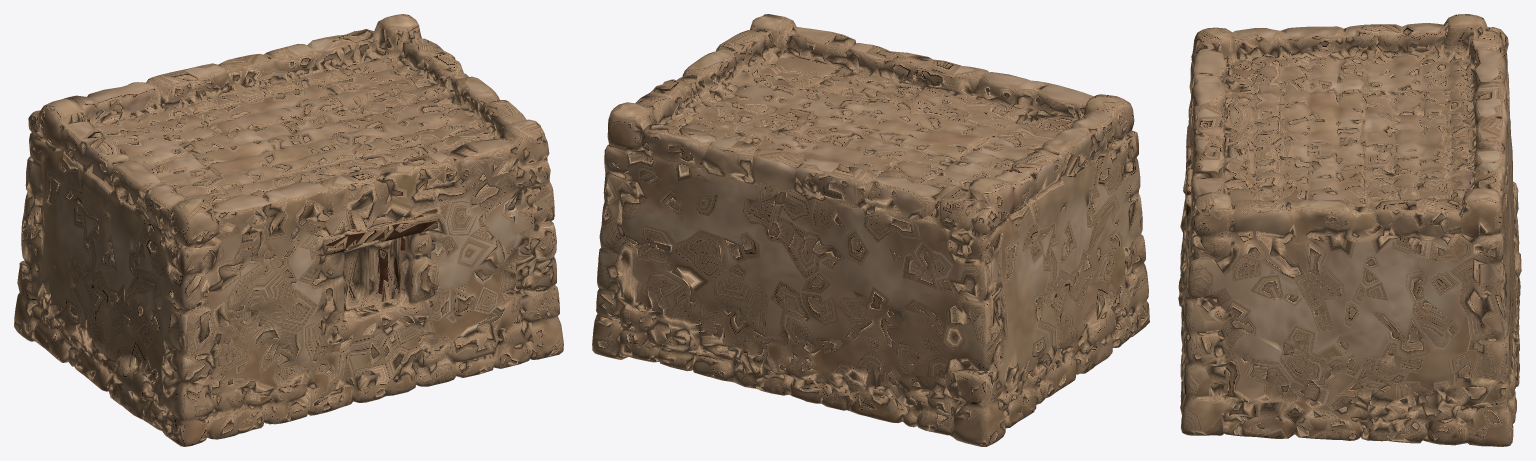
The model's file is limestone-house-annex.glb.
3 views of the same model, side by side, from view 1: azimuth 30°, elevation 25°; view 2: azimuth 150°, elevation 25°; view 3: azimuth 270°, elevation 25° (orthographic).
Parts seen in each view (by area): view 1: geometry_0; view 2: geometry_0; view 3: geometry_0.
Boxes of the visible parts, bbox=[...] form: geometry_0: bbox=[14, 14, 563, 446]; geometry_0: bbox=[592, 14, 1149, 446]; geometry_0: bbox=[1178, 14, 1521, 446].
Size of the model in its own units: 4.51 by 2.65 by 3.32.
1 material, 1 textured.
